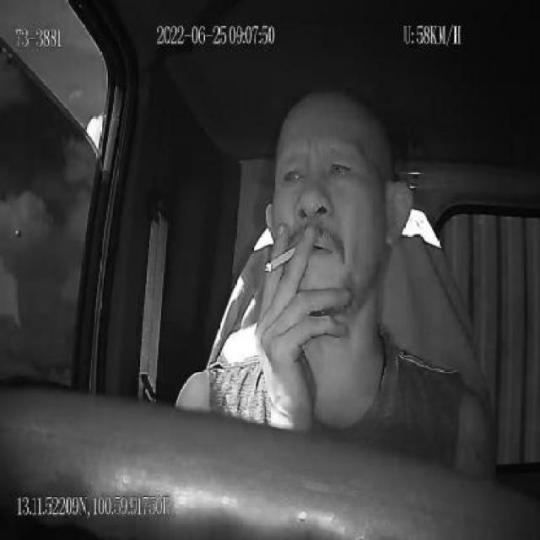smoking: (264, 245, 295, 276)
